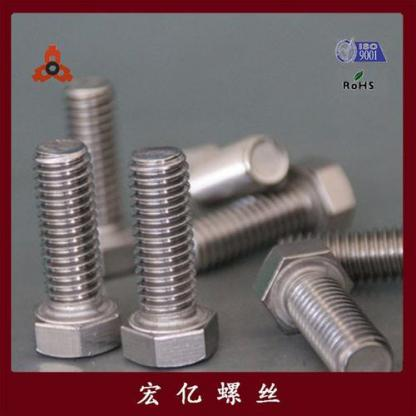FOD: (117, 140, 219, 368), (23, 132, 123, 356), (174, 155, 356, 273), (56, 74, 140, 279), (257, 246, 394, 371)
